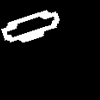chain: (1, 10, 58, 41)
